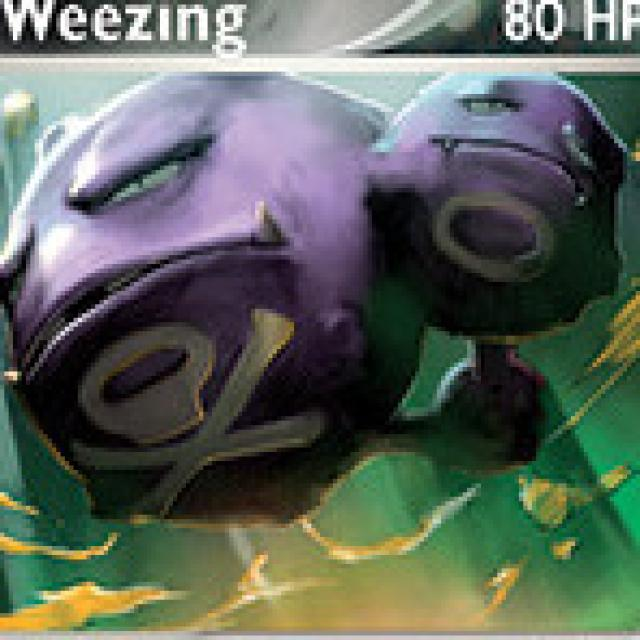Weezing: (0, 56, 626, 493)
